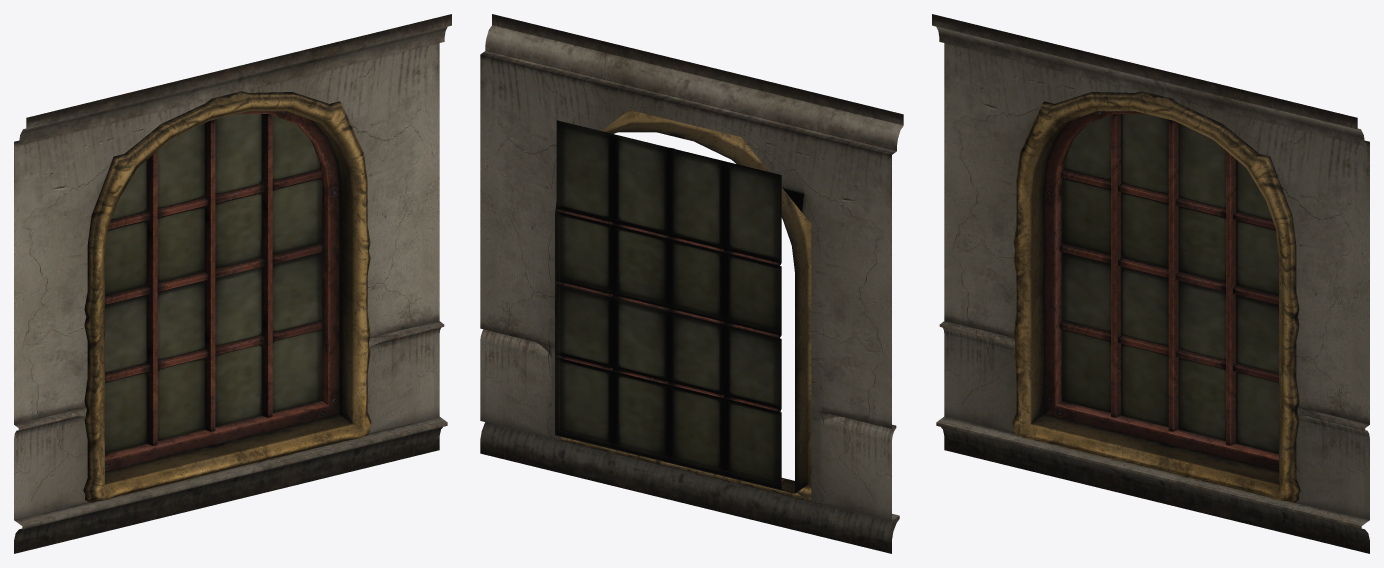
File: window_large_yellow.dae
The picture shows the model from 3 angles, left to right: view 1: azimuth 30°, elevation 25°; view 2: azimuth 150°, elevation 25°; view 3: azimuth 330°, elevation 25°; orthographic projection. The views are drawn at different scales.
Visible parts, largest first — view 1: window_large, window02_large_frame3, window02_large_glass_yellow4; view 2: window_large, window02_large_glass_yellow4, window02_large_frame3; view 3: window_large, window02_large_frame3, window02_large_glass_yellow4.
Boxes of the visible parts, x1,y1,x2,y2 form: window_large: [14, 14, 451, 553]; window02_large_frame3: [83, 91, 371, 502]; window02_large_glass_yellow4: [105, 114, 322, 453]; window_large: [480, 14, 903, 553]; window02_large_glass_yellow4: [556, 120, 781, 489]; window02_large_frame3: [547, 107, 823, 503]; window_large: [932, 14, 1369, 553]; window02_large_frame3: [1012, 91, 1300, 502]; window02_large_glass_yellow4: [1061, 114, 1278, 453].
Size of the model in its own units: 4 by 4 by 0.488.
